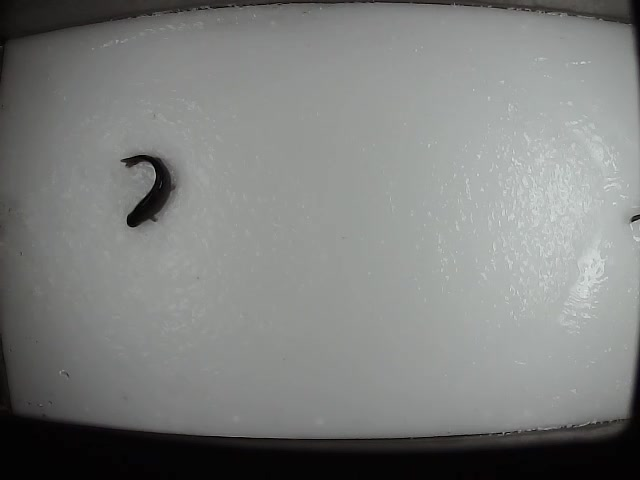Fish: (121, 155, 176, 228)
